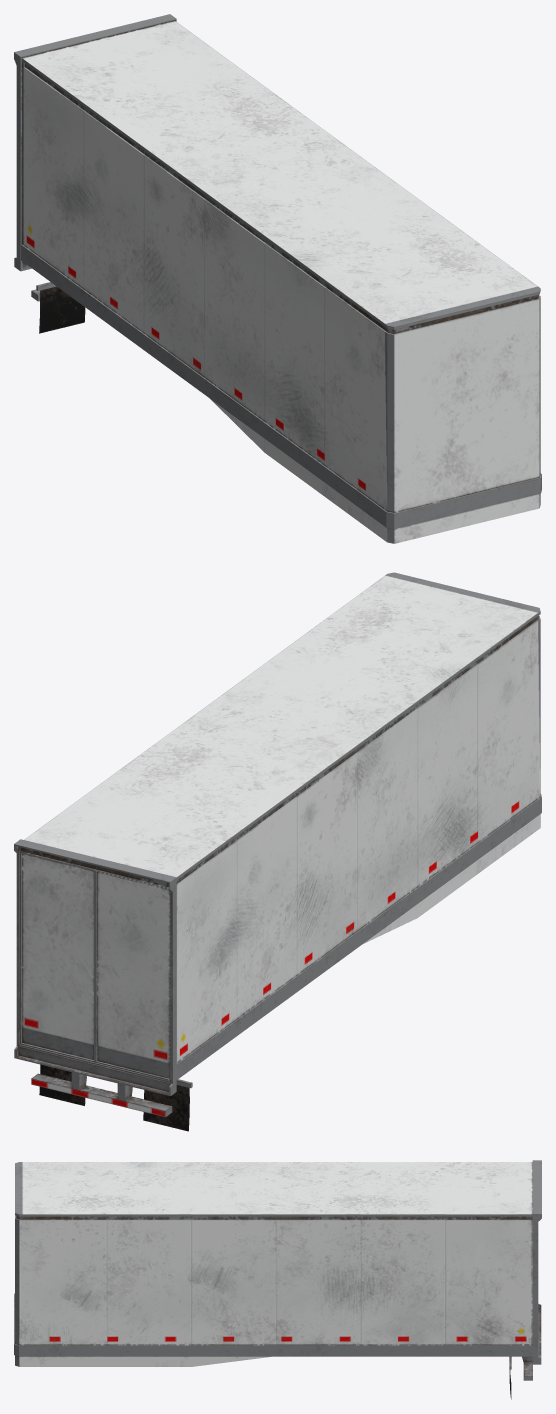
File: truck_trailer_without_wheels.glb
3 views of the same model, one above another, from view 1: azimuth 30°, elevation 25°; view 2: azimuth 150°, elevation 25°; view 3: azimuth 270°, elevation 25° (orthographic). The views are drawn at different scales.
Parts seen in each view (by area): view 1: Mesh_0; view 2: Mesh_0; view 3: Mesh_0.
Part boxes in pixels (x1=…): Mesh_0: x1=14, y1=14, x2=541, y2=543; Mesh_0: x1=14, y1=572, x2=541, y2=1131; Mesh_0: x1=14, y1=1160, x2=541, y2=1399.
Bounding box in the file's own units: 2.21 × 3.6 × 9.21.
1 material, 1 textured.
